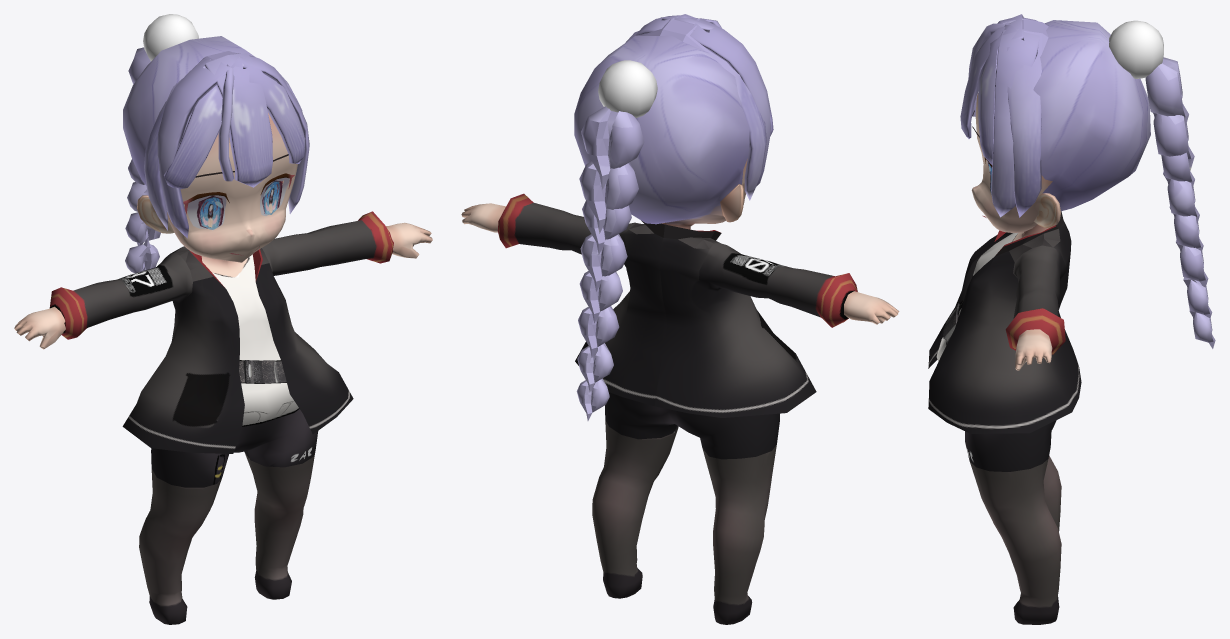
File: player.fbx
3 views of the same model, side by side, from view 1: azimuth 30°, elevation 25°; view 2: azimuth 150°, elevation 25°; view 3: azimuth 270°, elevation 25° (orthographic). The views are drawn at different scales.
Visible parts, largest first — view 1: player1; view 2: player1; view 3: player1.
Boxes of the visible parts, x1,y1,x2,y2 form: player1: (14,14,432,624); player1: (461,14,899,624); player1: (928,14,1215,624).
Bounding box in the file's own units: 78.5 × 101 × 45.78.
Materials: 1 (1 with a texture image).
